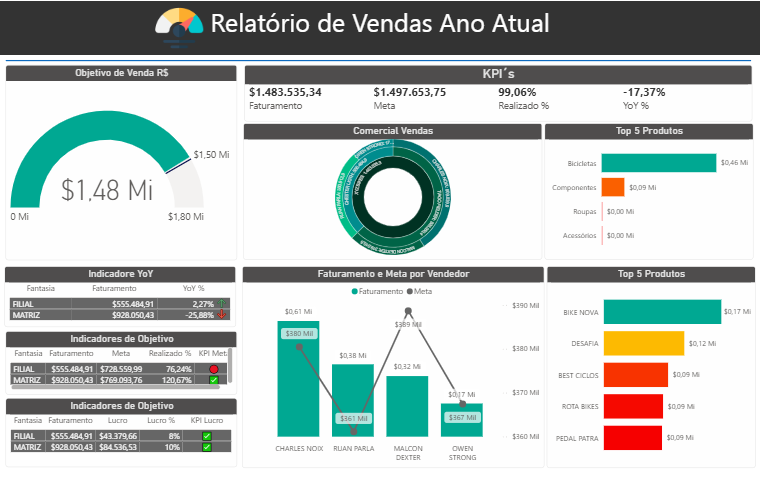

The dashboard page shown, as its layout file describes it:
{"tool":"powerbi","page":{"name":" AnáliseAnualAtual","canvas":[1280,810],"ordinal":1},"visuals":[{"type":"textbox","box":[0,0,1280.2,90.7],"z":0},{"type":"image","box":[221.8,0,158.4,90.7],"z":1000},{"type":"shape","box":[10.1,85,1255.7,30.2],"z":2000},{"type":"gauge","title":"Objetivo de Venda R$","fields":{"Y":["Medidas.Faturamento"],"MinValue":["Medidas.Meta zero"],"MaxValue":["Medidas.Meta 120"],"TargetValue":["Medidas.Meta"]},"box":[9.7,106.9,390.4,328.9],"z":3000},{"type":"tableEx","title":"Indicadore YoY","fields":{"Values":["DIM_EMPRESA.FANTASIA","Medidas.Faturamento","Medidas.YoY %"]},"box":[8.1,446.3,390.4,102.4],"z":4000},{"type":"tableEx","title":"Indicadores de Objetivo","fields":{"Values":["DIM_EMPRESA.FANTASIA","Medidas.Faturamento","Medidas.Meta","Medidas.Realizado %","Medidas.KPI Meta"]},"box":[9.7,555.1,390.4,107.2],"z":5000},{"type":"tableEx","title":"Indicadores de Objetivo","fields":{"Values":["DIM_EMPRESA.FANTASIA","Medidas.Faturamento","Medidas.Lucro","Medidas.Lucro %","Medidas.KPI Lucro"]},"box":[9.7,668.7,390.4,116.8],"z":6000},{"type":"multiRowCard","title":"KPI´s","fields":{"Values":["Medidas.Faturamento","Medidas.Meta","Medidas.Realizado %","Medidas.YoY %"]},"box":[410.4,106.6,855.4,95],"z":7000},{"type":"Sunburst1445472000808","title":"Comercial Vendas","fields":{"Nodes":["DIM_EMPRESA.NOME_EMPRESA","DIM_GERENTES.NOME","DIM_VENDEDOR.NOME"],"Values":["Medidas.Faturamento"]},"box":[409.6,206.4,504,230.4],"z":8000},{"type":"lineClusteredColumnComboChart","title":"Faturamento e Meta por Vendedor","fields":{"Category":["DIM_VENDEDOR.NOME"],"Y":["Medidas.Faturamento"],"Y2":["Medidas.Meta"]},"box":[408.2,445.5,508.7,340.2],"z":9000},{"type":"clusteredBarChart","title":"Top 5 Produtos","fields":{"Category":["DIM_CLIENTES.FANTASIA"],"Y":["Medidas.Faturamento"]},"box":[920.2,445.5,351.5,340.2],"z":10000},{"type":"clusteredBarChart","title":"Top 5 Produtos","fields":{"Y":["Medidas.Faturamento"],"Category":["DIM_LINHA_PRODUTO.DESC_LINHA"]},"box":[916.9,205.7,351.5,230],"z":11000}]}

Visuals, with their boxes in screenshot pixels (x1, y1, x2, y2), scaled from the page's 1280x810 canvas onto the 760x495 screenshot:
textbox: [0,0,759,55]
image: [132,0,226,55]
shape: [6,52,752,70]
"Objetivo de Venda R$" gauge: [6,65,238,266]
"Indicadore YoY" tableEx: [5,273,237,335]
"Indicadores de Objetivo" tableEx: [6,339,238,405]
"Indicadores de Objetivo" tableEx: [6,409,238,480]
"KPI´s" multiRowCard: [244,65,752,123]
"Comercial Vendas" Sunburst1445472000808: [243,126,542,267]
"Faturamento e Meta por Vendedor" lineClusteredColumnComboChart: [242,272,544,480]
"Top 5 Produtos" clusteredBarChart: [546,272,755,480]
"Top 5 Produtos" clusteredBarChart: [544,126,753,266]
